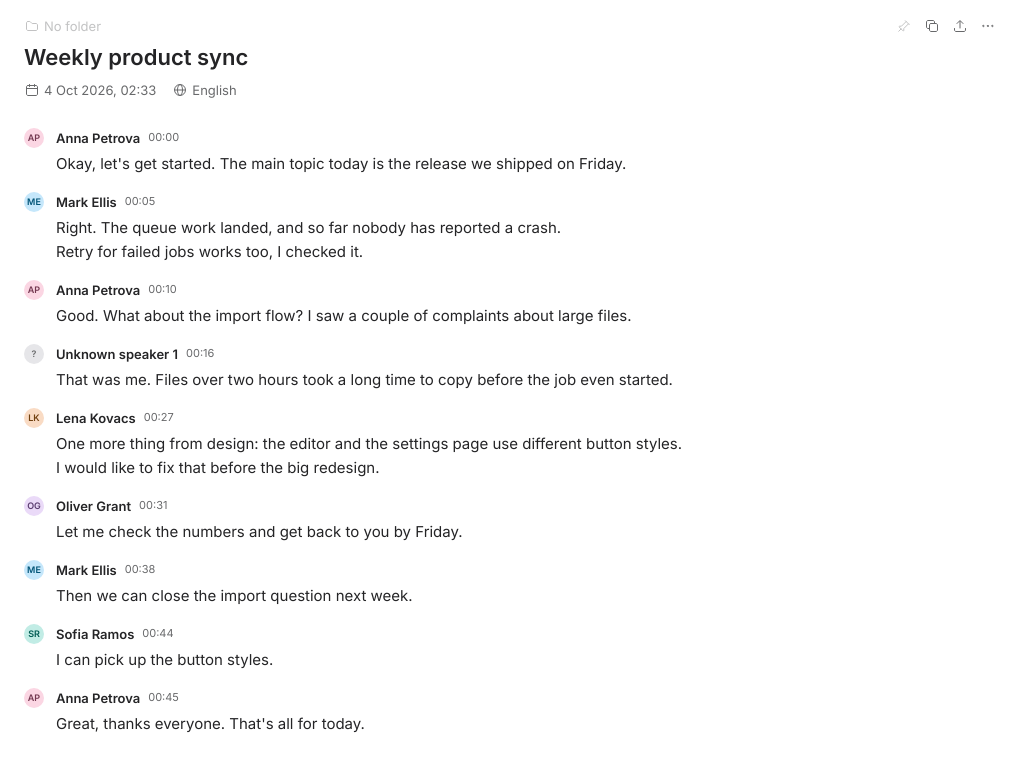
Test: deleting › More, Delete removes the segment
Hover over the text "Retry for failed jobs works too, I checked it." at (210, 252), box [56,242,363,261]
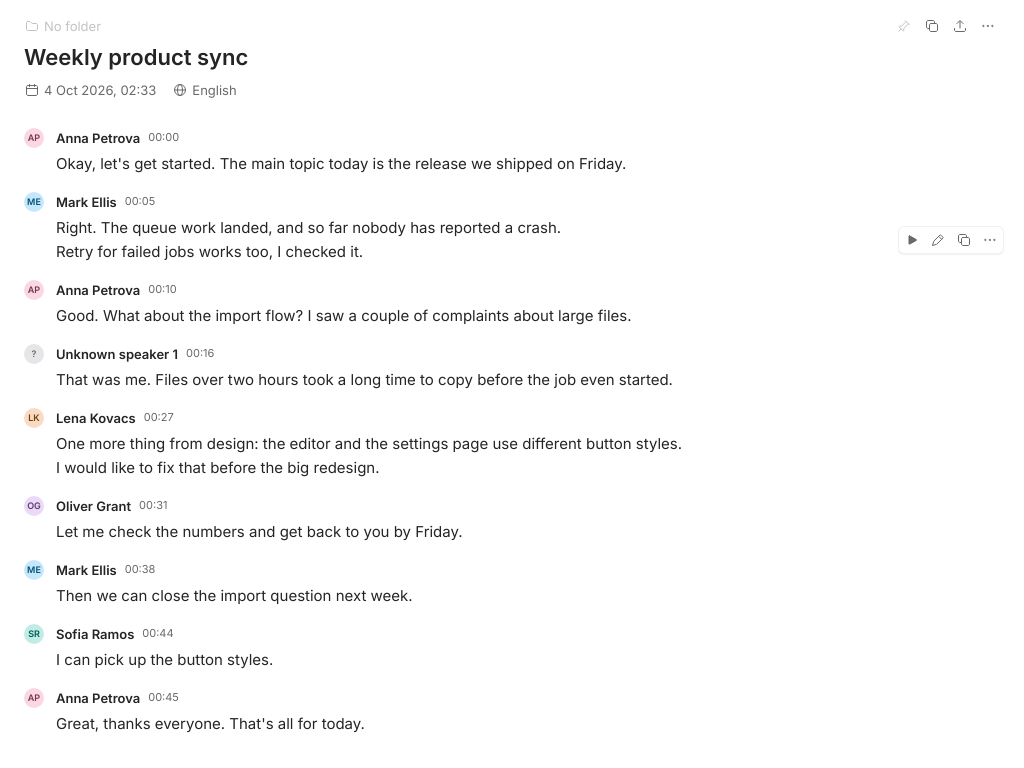
Click the 2nd button named "More" at (990, 240), box [978,228,1002,252]
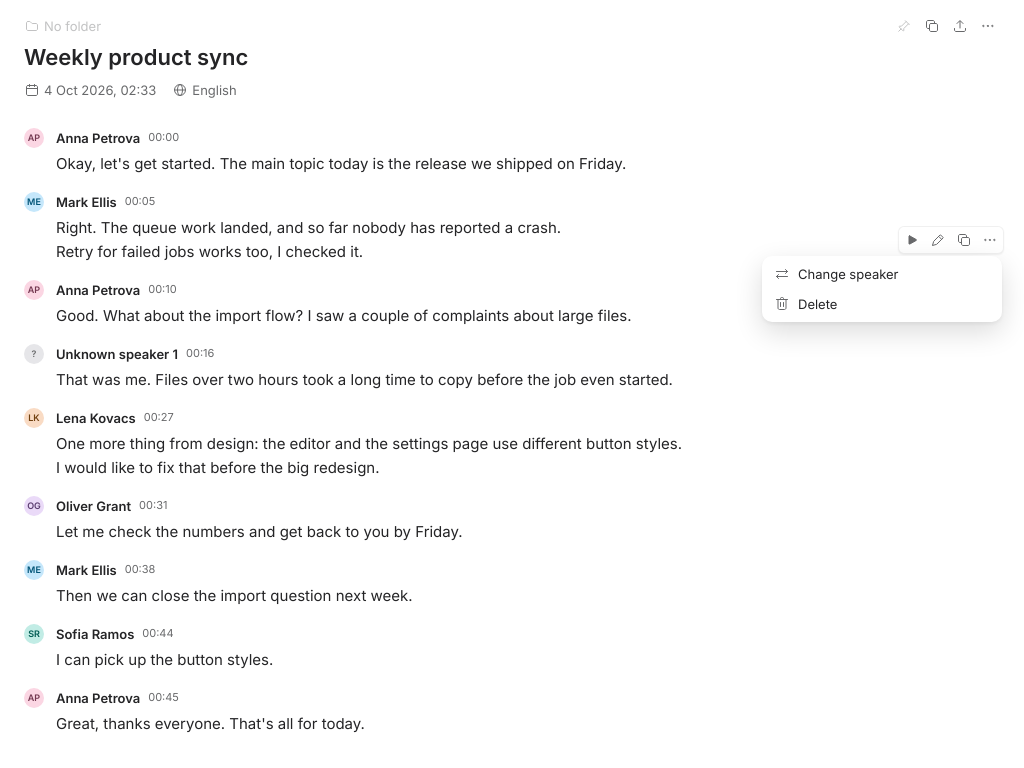
Click the menu item "Delete" at (882, 304), box [766,290,998,318]
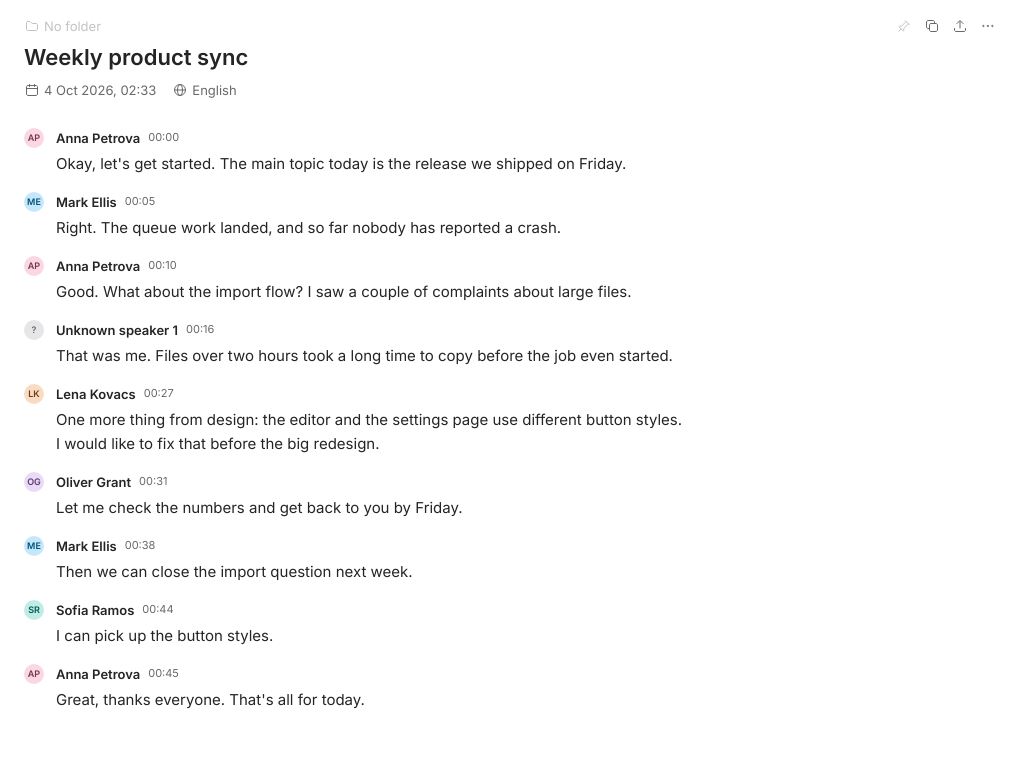
Check: the text "Retry for failed jobs works too, I checked it." is gone
